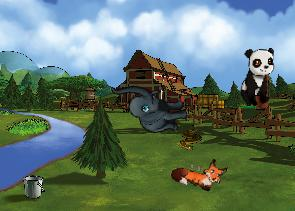elephant: (110, 72, 190, 141)
fox: (169, 147, 229, 197)
panda: (239, 46, 276, 108)
